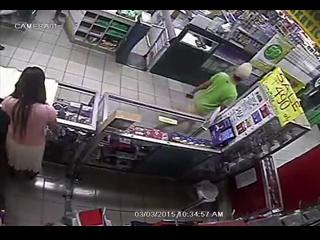Normal: (0, 65, 60, 180)
